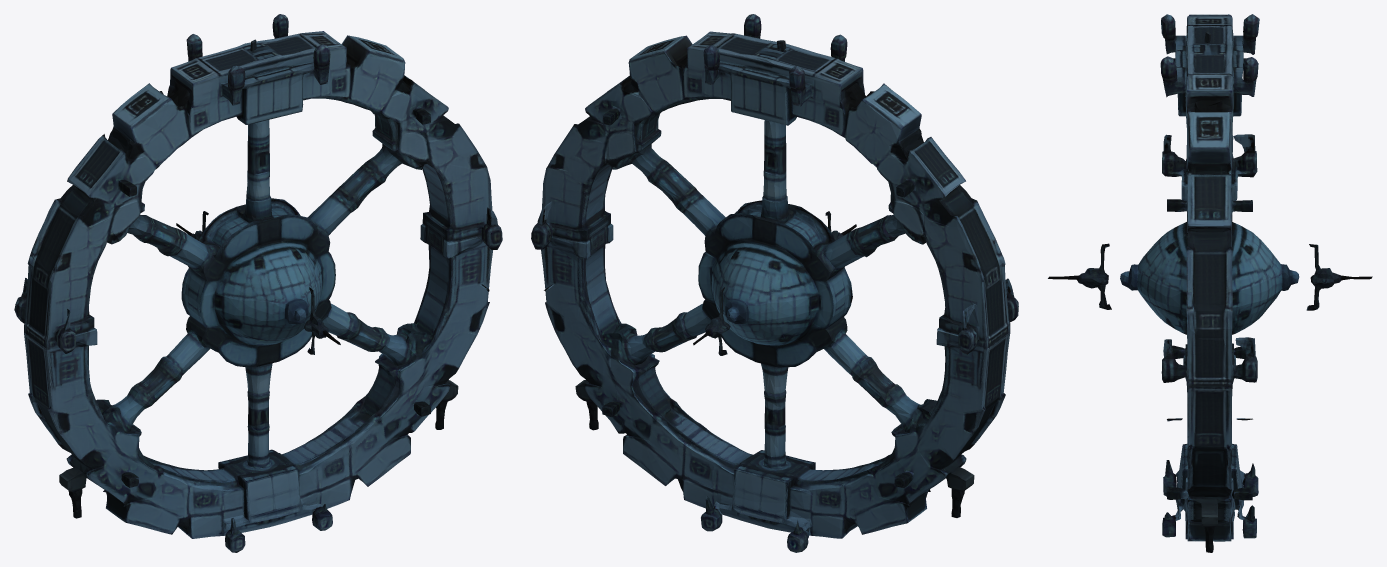
File: Type 4 Station.glb
The picture shows the model from 3 angles, left to right: view 1: azimuth 30°, elevation 25°; view 2: azimuth 150°, elevation 25°; view 3: azimuth 270°, elevation 25°; orthographic projection.
Visible parts, largest first — view 1: world; view 2: world; view 3: world.
Part boxes in pixels (bbox=[...]): world: bbox=[14, 14, 502, 552]; world: bbox=[531, 14, 1018, 552]; world: bbox=[1048, 14, 1372, 552].
Size of the model in its own units: 0.9558 by 0.9933 by 0.6075.
Materials: 1 (1 with a texture image).
